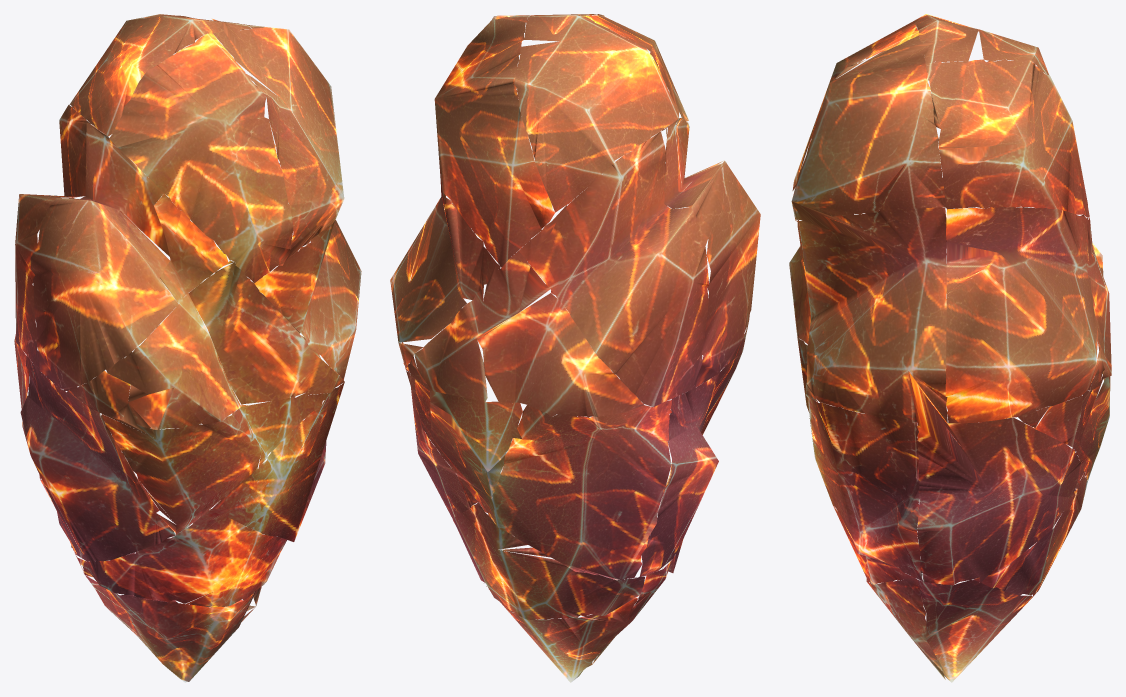
Rendered from orange_low_poly_gem.glb.
3 views of the same model, side by side, from view 1: azimuth 30°, elevation 25°; view 2: azimuth 150°, elevation 25°; view 3: azimuth 270°, elevation 25° (orthographic).
Parts seen in each view (by area): view 1: low_low_poly; view 2: low_low_poly; view 3: low_low_poly.
Part boxes in pixels (left/top/right/bottom): low_low_poly: left=14, top=14, right=361, bottom=682; low_low_poly: left=390, top=14, right=760, bottom=682; low_low_poly: left=789, top=14, right=1111, bottom=682.
Size of the model in its own units: 0.4836 by 1 by 0.4424.
1 material, 1 textured.
